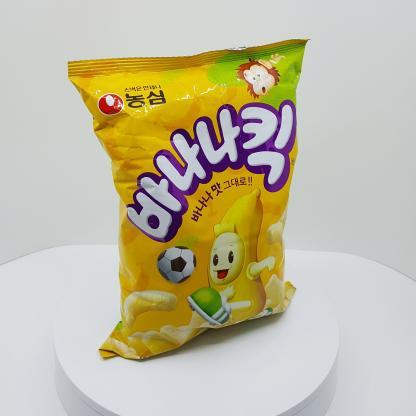Plastic Packaging: (61, 31, 319, 368)
